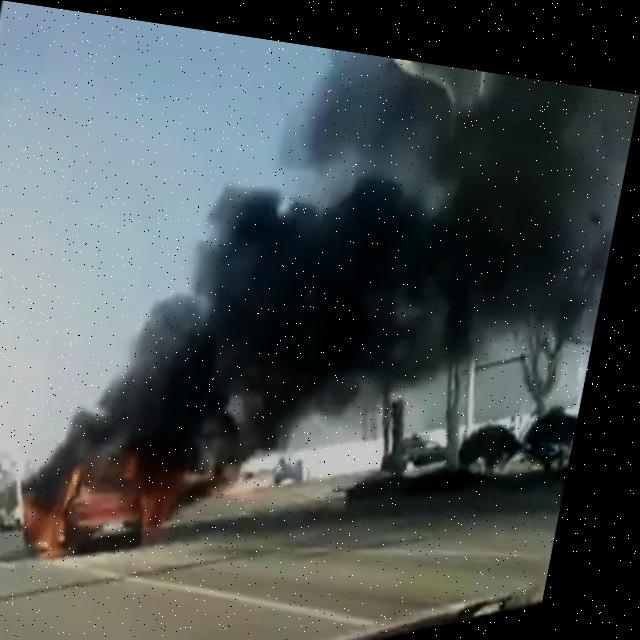Fire: (32, 424, 203, 562)
